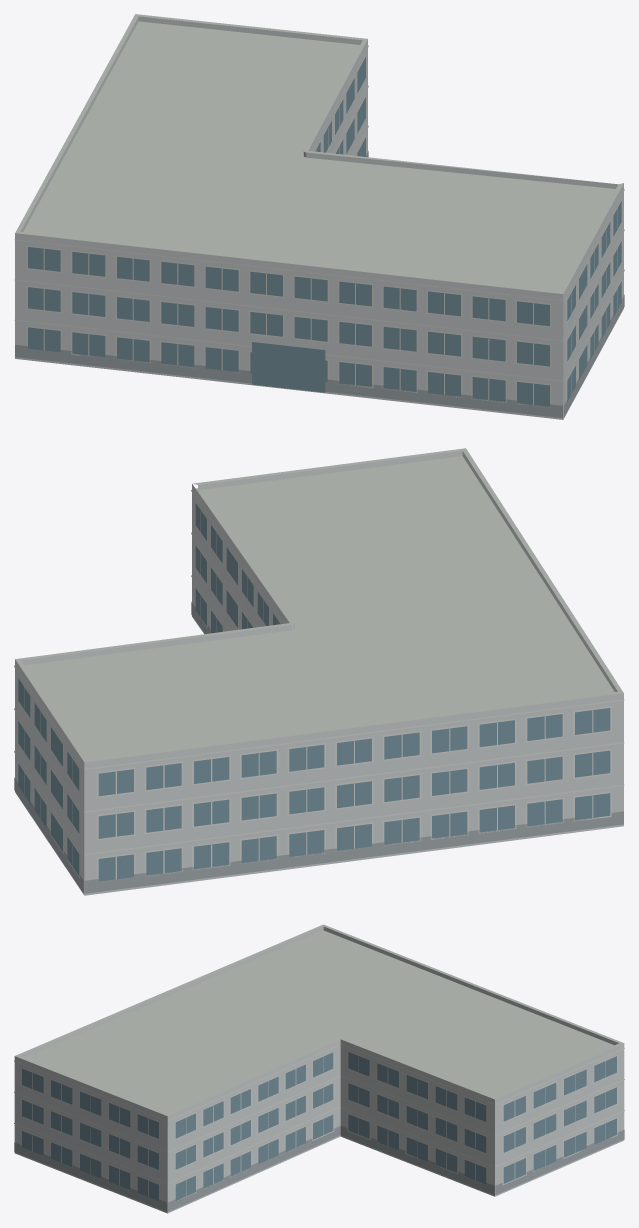
The model's file is public-9c111b0a-ef6c-4297-99a2-4bb6d956411b.glb.
3 renders of one model, top to bottom at view 1: azimuth 30°, elevation 25°; view 2: azimuth 150°, elevation 25°; view 3: azimuth 270°, elevation 25°, orthographic. The views are drawn at different scales.
Parts seen in each view (by area): view 1: public-9c111b0a-ef6c-4297-99a2-4bb6d956411b; view 2: public-9c111b0a-ef6c-4297-99a2-4bb6d956411b; view 3: public-9c111b0a-ef6c-4297-99a2-4bb6d956411b.
Boxes of the visible parts, x1,y1,x2,y2 form: public-9c111b0a-ef6c-4297-99a2-4bb6d956411b: (14,14,624,419); public-9c111b0a-ef6c-4297-99a2-4bb6d956411b: (14,448,624,895); public-9c111b0a-ef6c-4297-99a2-4bb6d956411b: (14,924,624,1213).
Bounding box in the file's own units: 38.8 × 9.15 × 52.07.
